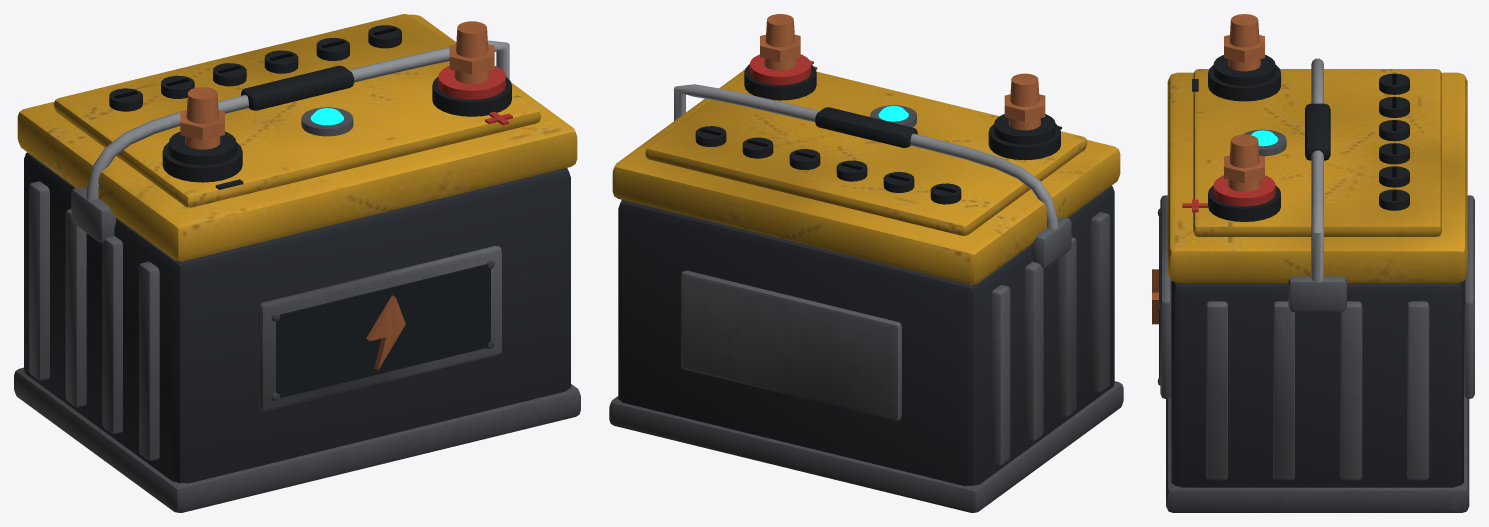
Rendered from battery_pack.glb.
The picture shows the model from 3 angles, left to right: view 1: azimuth 30°, elevation 25°; view 2: azimuth 150°, elevation 25°; view 3: azimuth 270°, elevation 25°; orthographic projection. The views are drawn at different scales.
Visible parts, largest first — view 1: Case; view 2: Case; view 3: Case.
Boxes of the visible parts, <box> form: Case: <box>14,14,580,512</box>; Case: <box>609,14,1123,512</box>; Case: <box>1152,14,1474,512</box>.
Bounding box in the file's own units: 0.246 × 0.208 × 0.1766.
11 materials, 7 textured.
